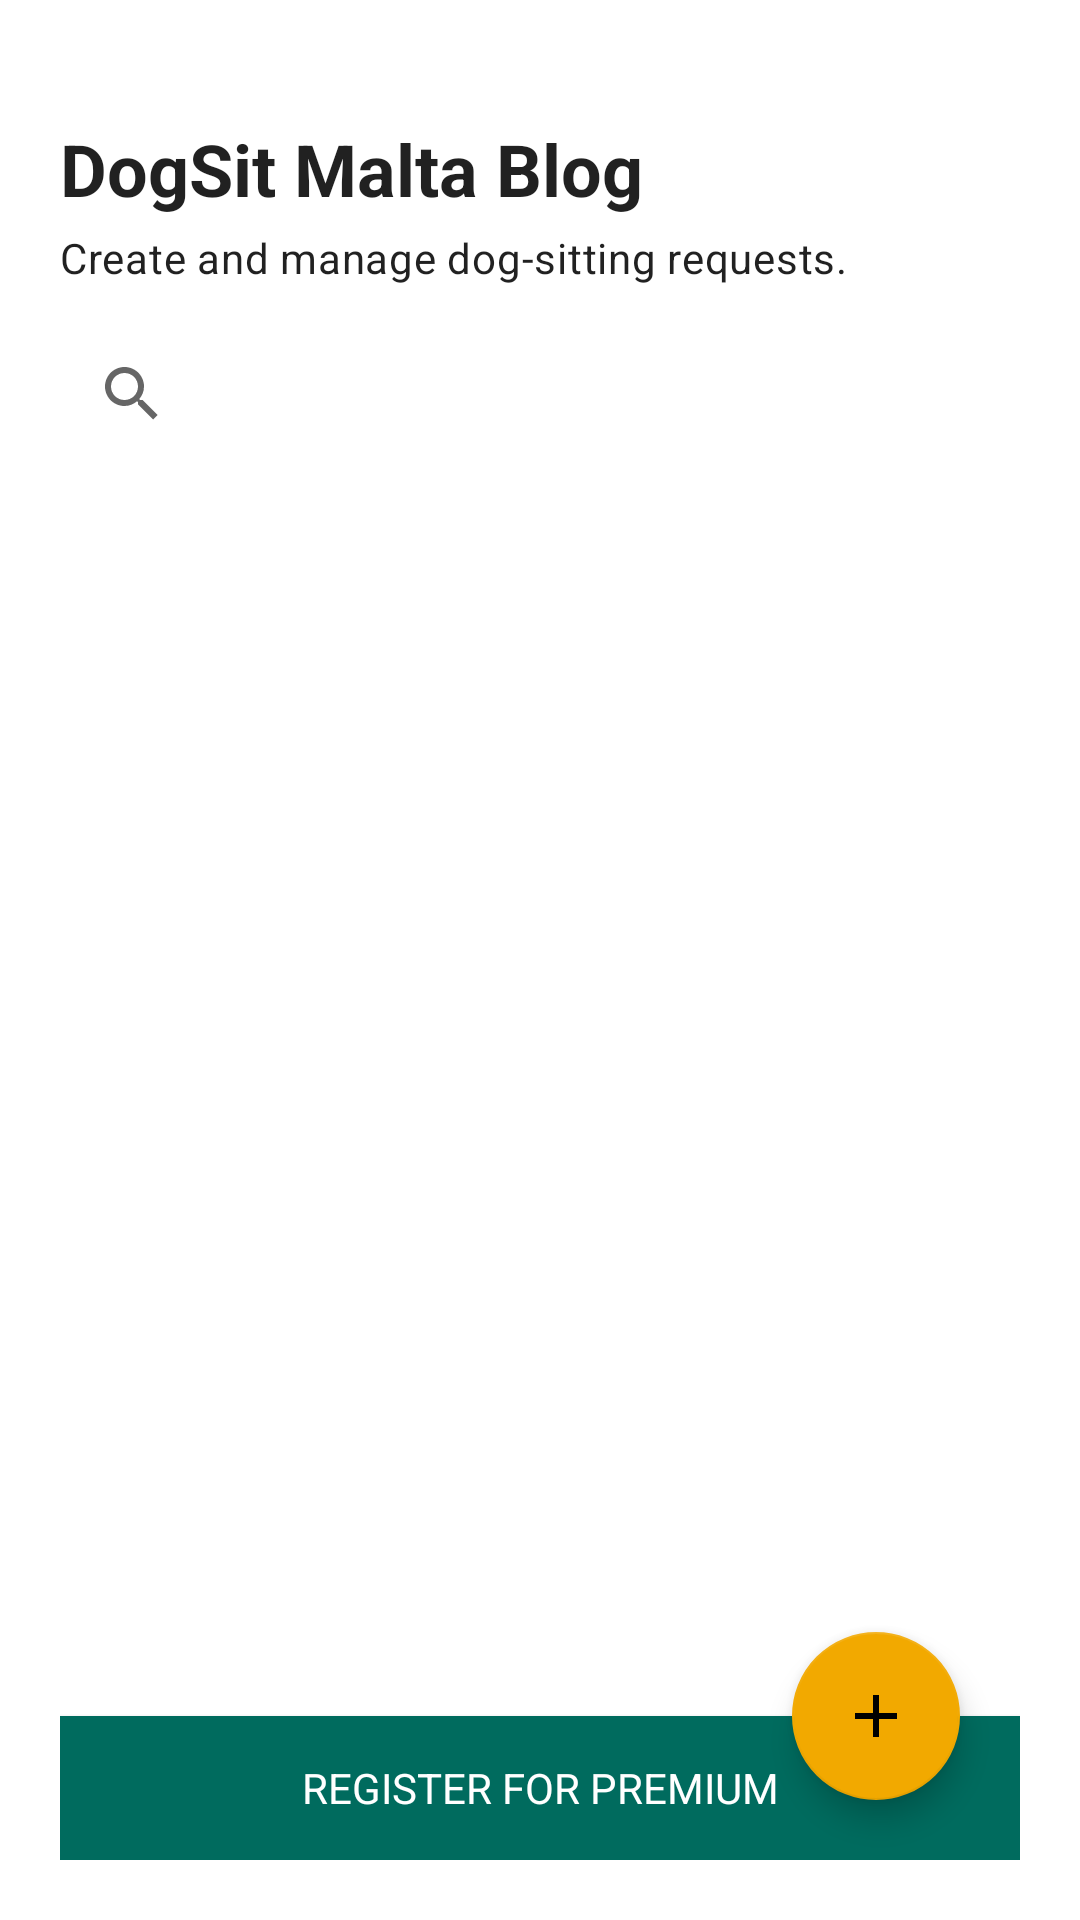

Named icons in this screenshot (1080 x 1920) and their centers, (x,y):
Create post: (876,1716)
